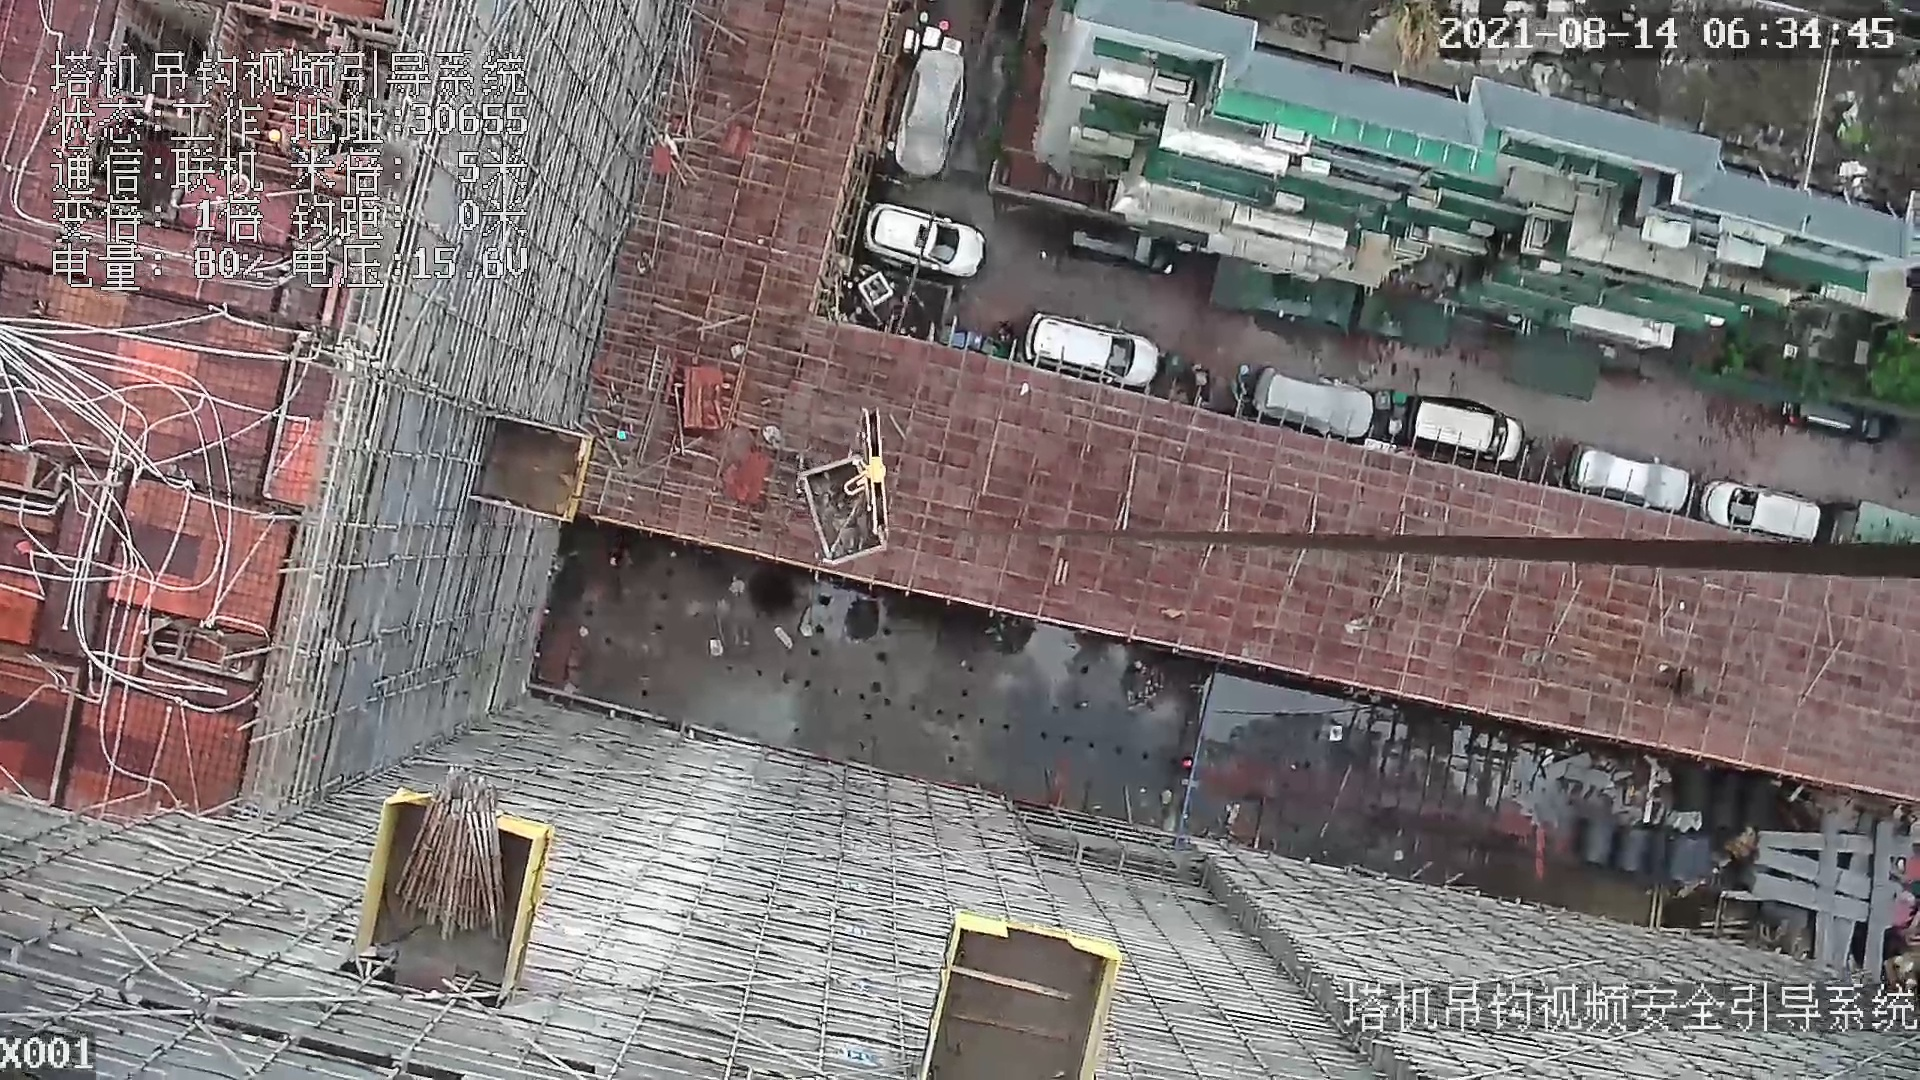hook: (841, 404, 894, 535)
hopper: (786, 454, 894, 587)
scaffold: (410, 762, 516, 949)
